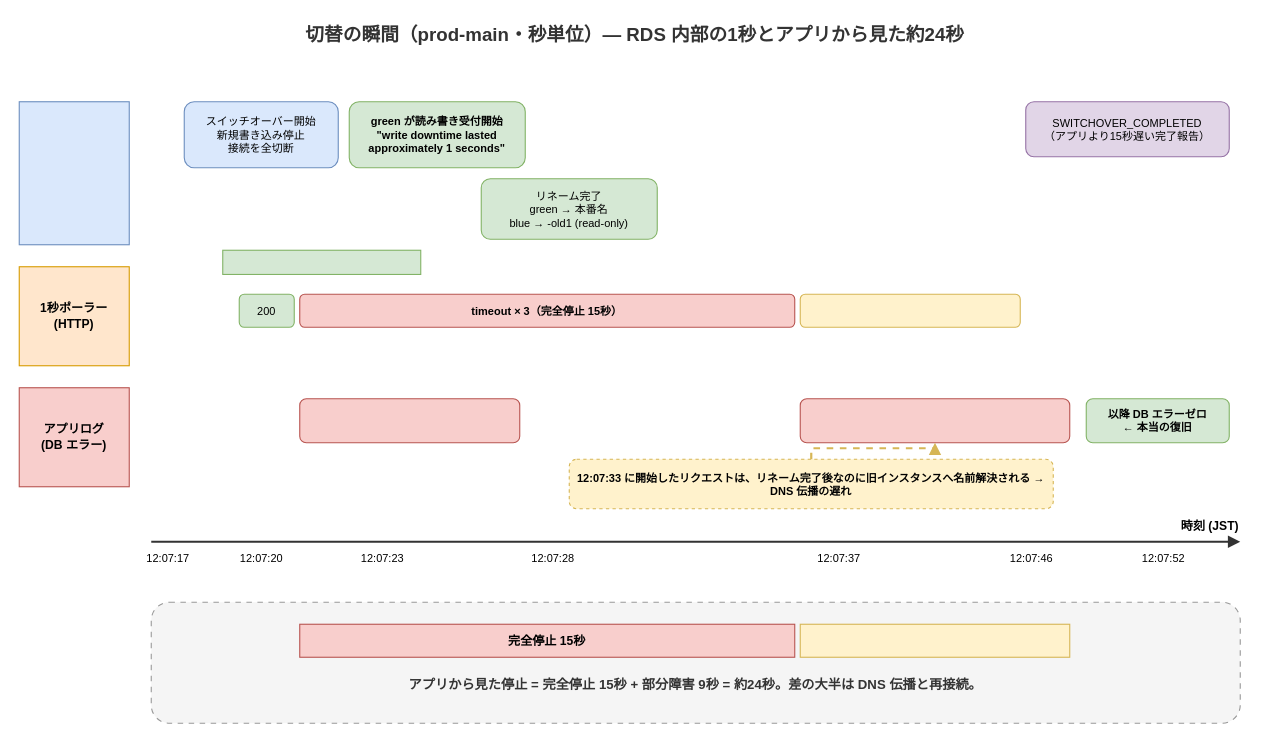
Some shapes in this 1269 by 743 pixel diagram are drawn without their labels. The box of each missing label's shape, as (x1, y1, x2, y2) in pixels:
1290 read-only ×6 件 部分障害 9秒（26リクエスト中6件が 500）: (799, 398, 1070, 443)
200 ← ポーラーは「復旧」と判定: (799, 293, 1020, 327)
2013 Lost connection 2006 Server has gone away: (299, 398, 520, 443)
RDS 内部: (18, 101, 129, 245)
RDS 起因の書き込み停止 = 約1秒: (222, 249, 421, 274)
部分障害 9秒: (799, 623, 1070, 657)
